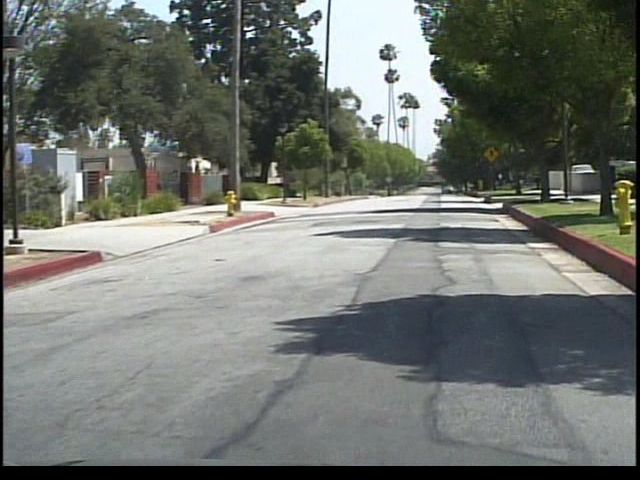strada: (7, 212, 621, 468)
